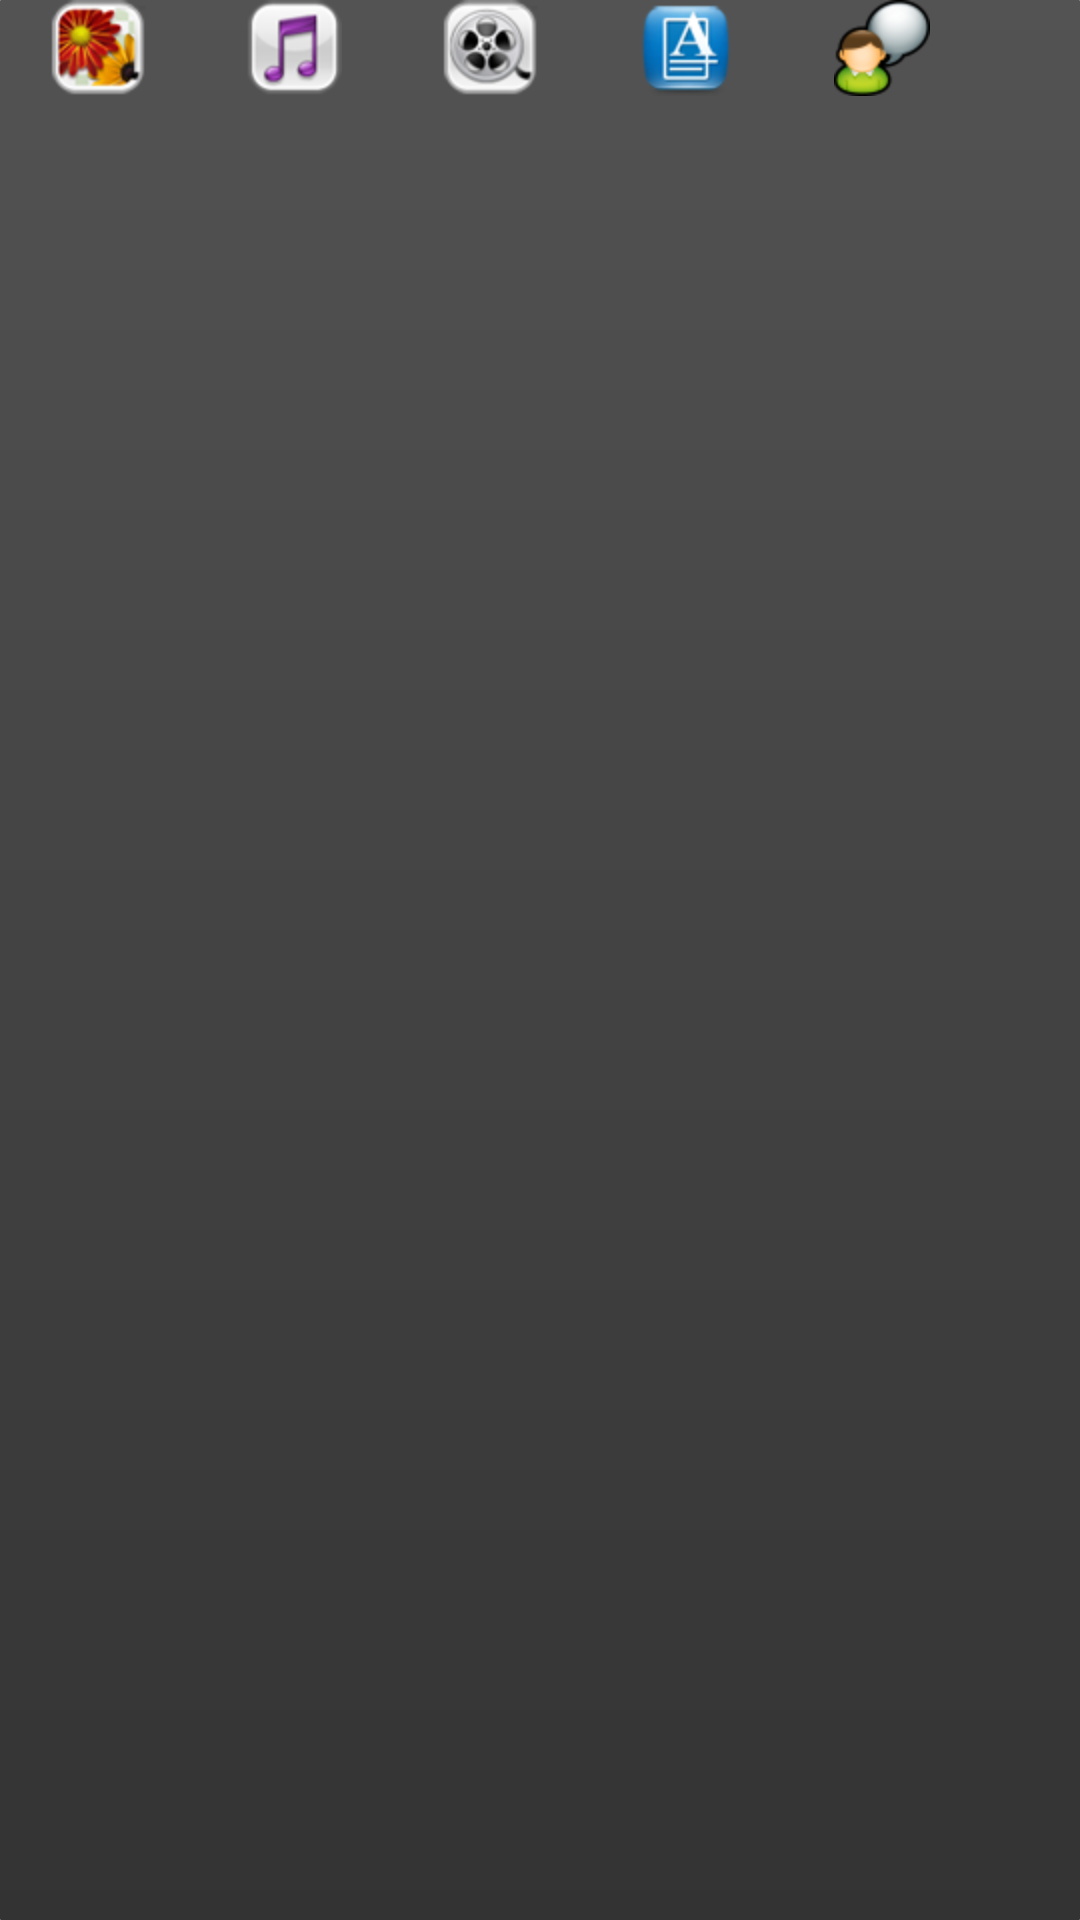

Icon click points for this 1080x1920 phone screenshot, format (x,y):
bua browse list gallery: (72,47)
bua browse list mov: (490,47)
bua browse list music: (294,47)
doc: (686,48)
user choice: (882,48)
